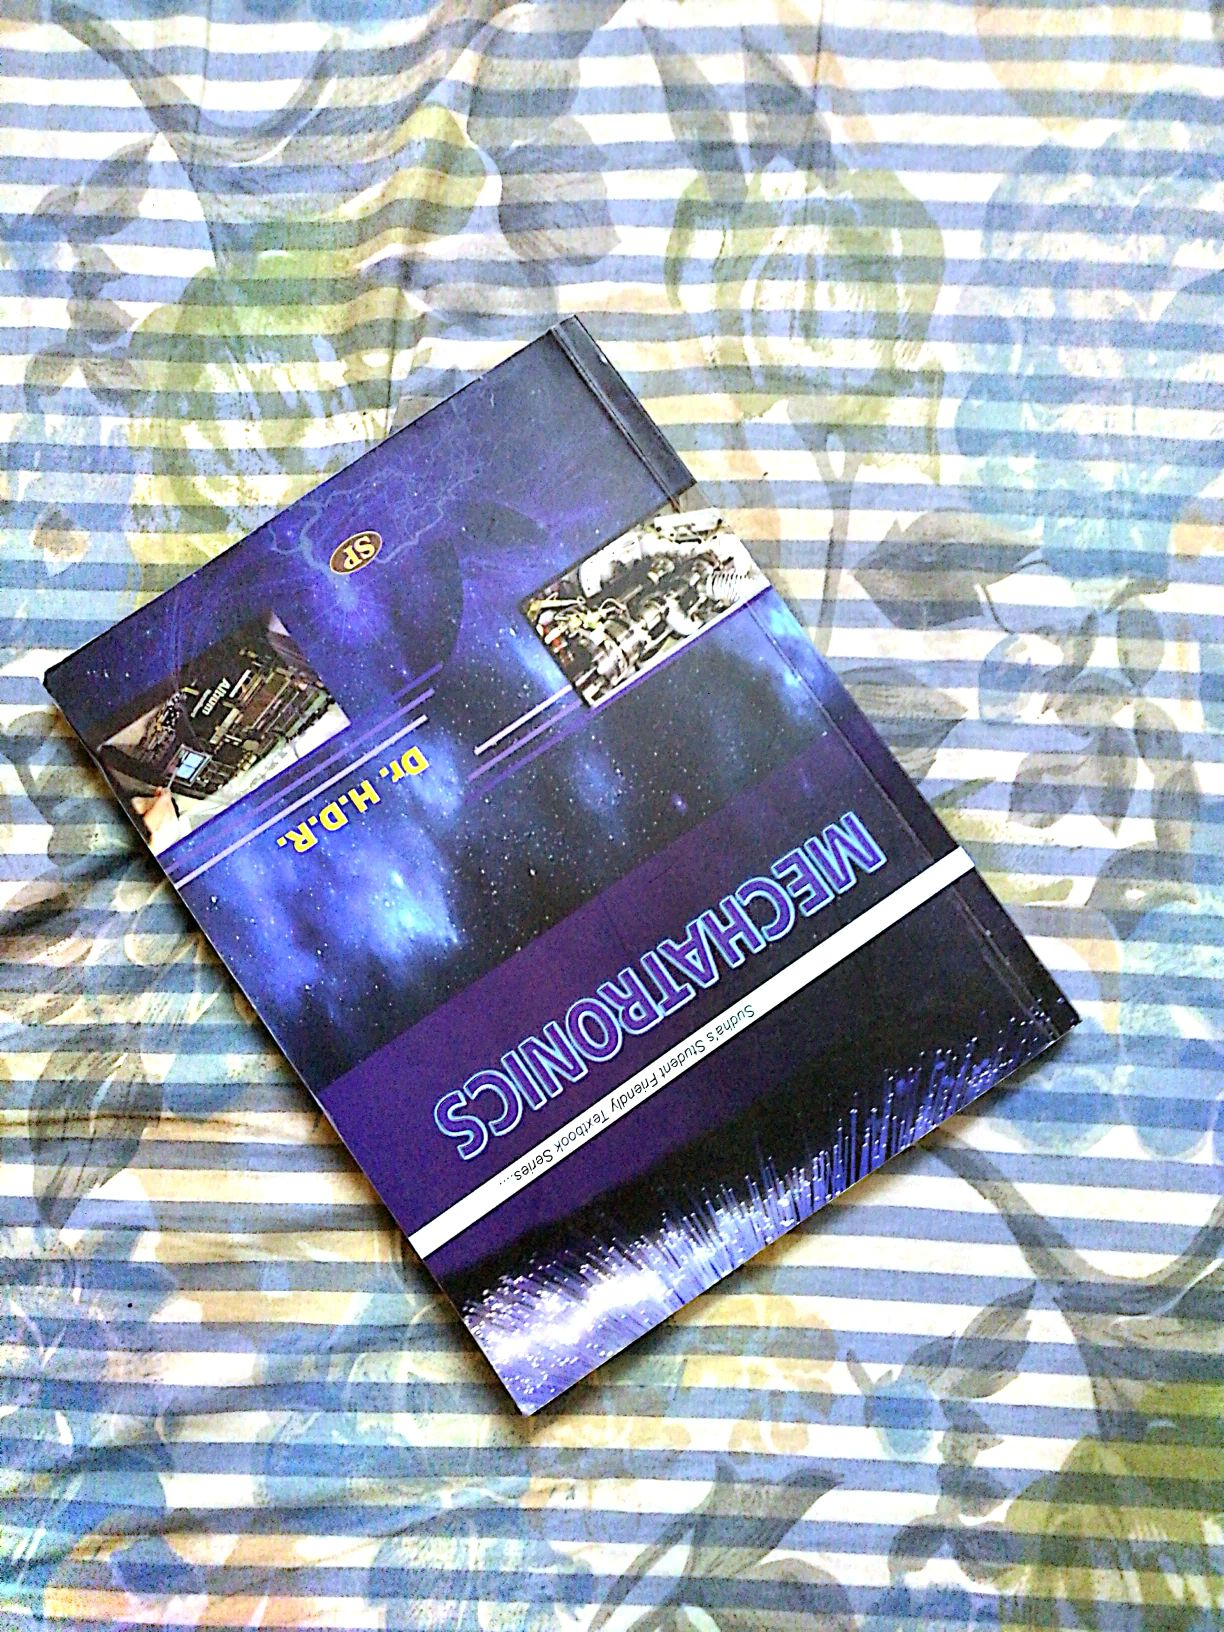mechatronics: (96, 335, 1056, 1387)
